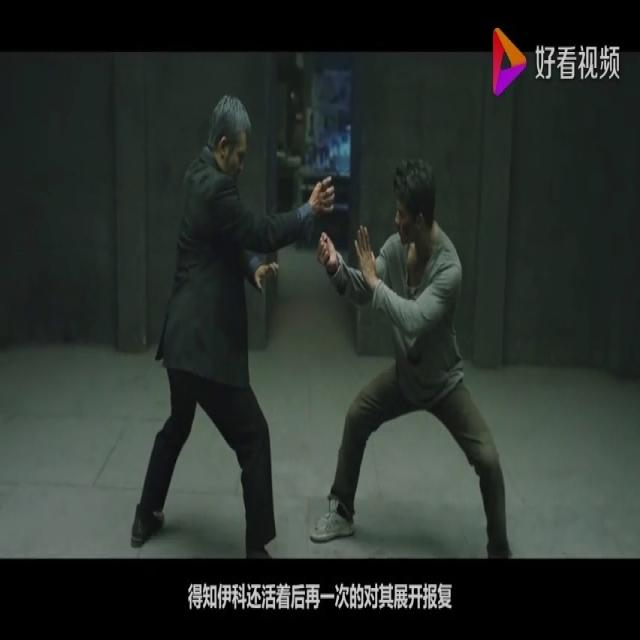fight: (114, 72, 526, 567)
